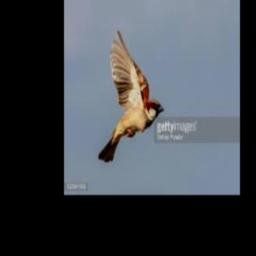Sparrow: (98, 30, 164, 162)
